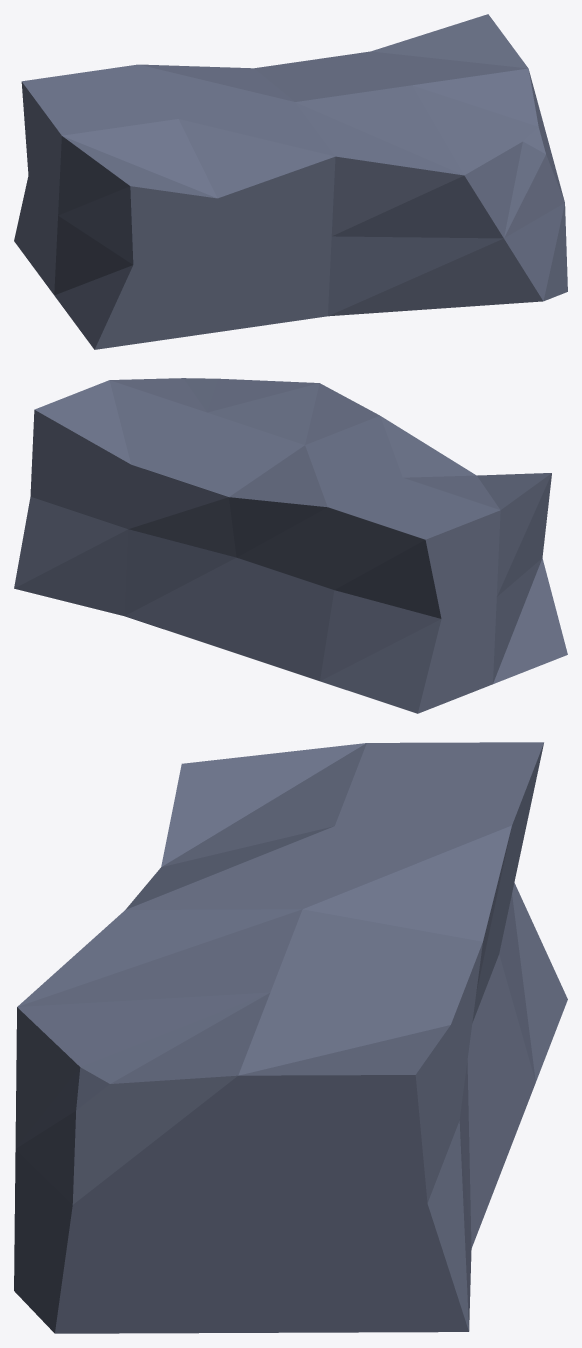
The model's file is Rock4.fbx.
3 renders of one model, top to bottom at view 1: azimuth 30°, elevation 25°; view 2: azimuth 150°, elevation 25°; view 3: azimuth 270°, elevation 25°, orthographic. The views are drawn at different scales.
Parts seen in each view (by area): view 1: RockLong; view 2: RockLong; view 3: RockLong.
Part boxes in pixels (x1,y1,x2,y2): RockLong: [14, 14, 567, 349]; RockLong: [14, 378, 567, 713]; RockLong: [14, 742, 567, 1333].
Bounding box in the file's own units: 371 × 248 × 146.
